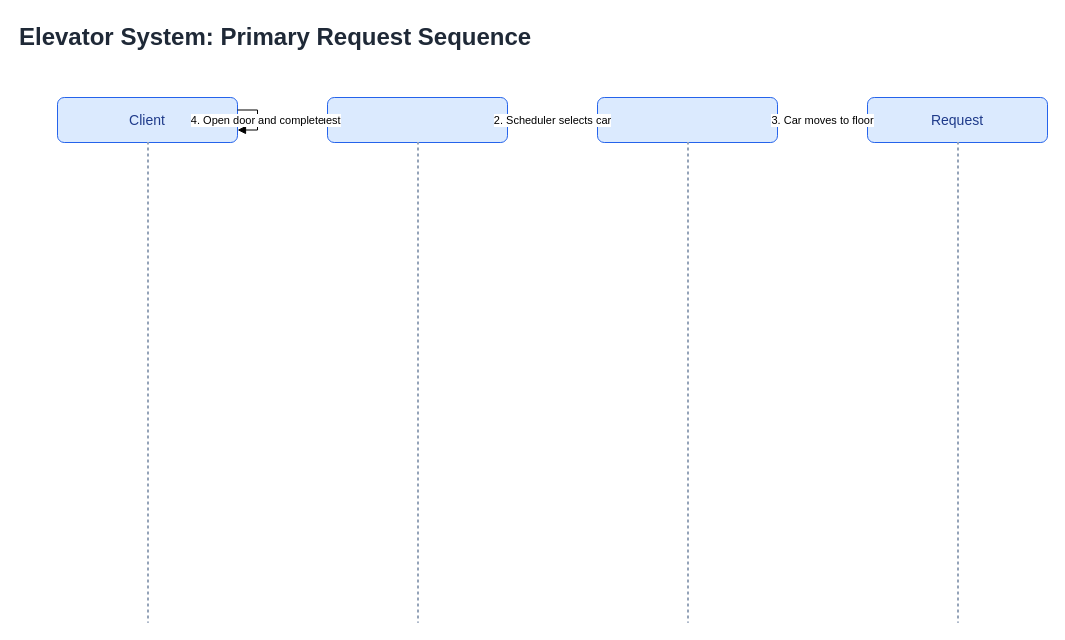
Image size: 1065x640. Some labels were removed from this diagram. The shapes that lost their labels are listed below. From the top down, each one's box as (x1, y1, x2, y2) in pixels, then its label:
(326, 96, 508, 142): ElevatorController
(596, 96, 778, 142): ElevatorCar
